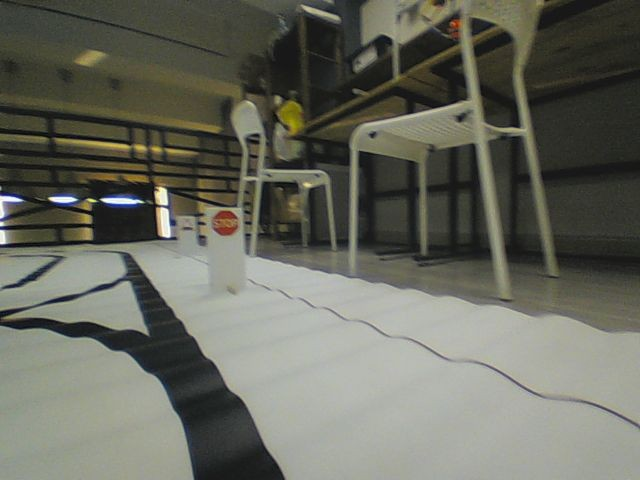Stop: (211, 209, 239, 237)
